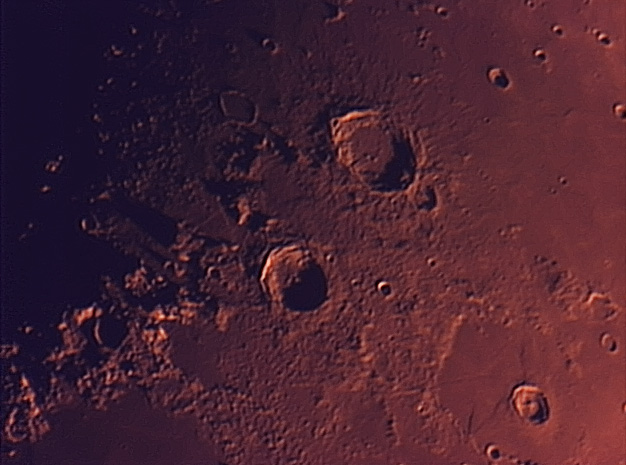crater: (308, 105, 454, 215), (239, 232, 338, 328), (492, 359, 563, 440), (482, 56, 516, 99)
